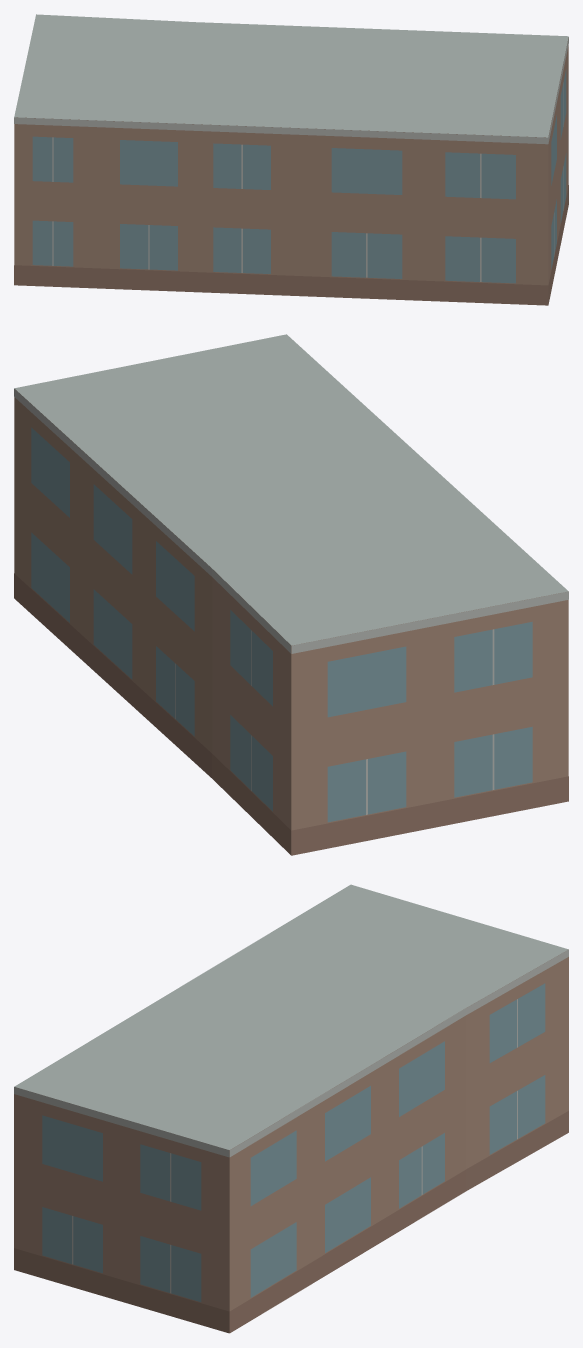
The model's file is survey-upis-32651994.glb.
The picture shows the model from 3 angles, top to bottom: view 1: azimuth 30°, elevation 25°; view 2: azimuth 150°, elevation 25°; view 3: azimuth 270°, elevation 25°; orthographic projection. The views are drawn at different scales.
Parts seen in each view (by area): view 1: survey-upis-32651994.tmp; view 2: survey-upis-32651994.tmp; view 3: survey-upis-32651994.tmp.
Boxes of the visible parts, x1,y1,x2,y2 form: survey-upis-32651994.tmp: [14, 14, 568, 305]; survey-upis-32651994.tmp: [14, 334, 568, 855]; survey-upis-32651994.tmp: [14, 884, 568, 1333].
Size of the model in its own units: 18.98 by 6.1 by 16.75.
